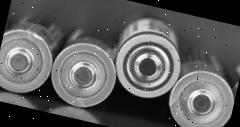electronic: (103, 6, 191, 108), (46, 16, 126, 124), (0, 5, 71, 112), (160, 38, 240, 127)
